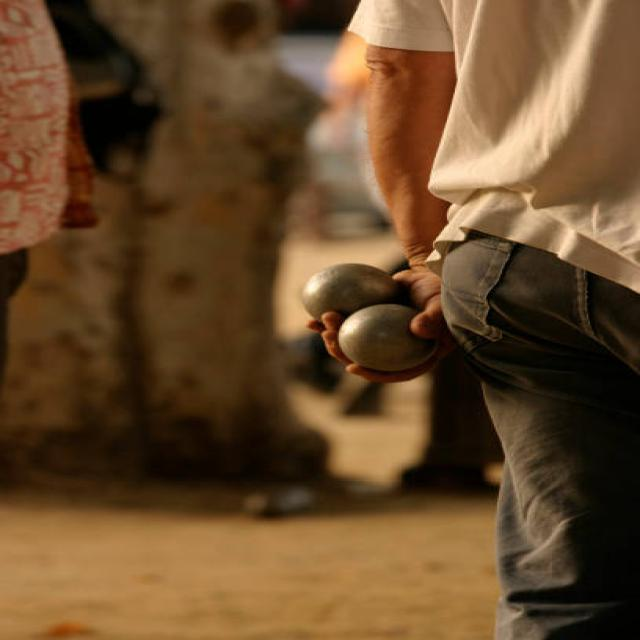petanque: (329, 301, 449, 374), (296, 255, 411, 326)
